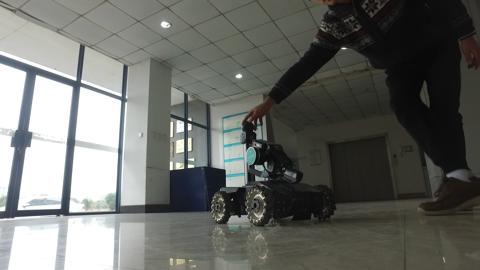chariot: (198, 110, 357, 233)
